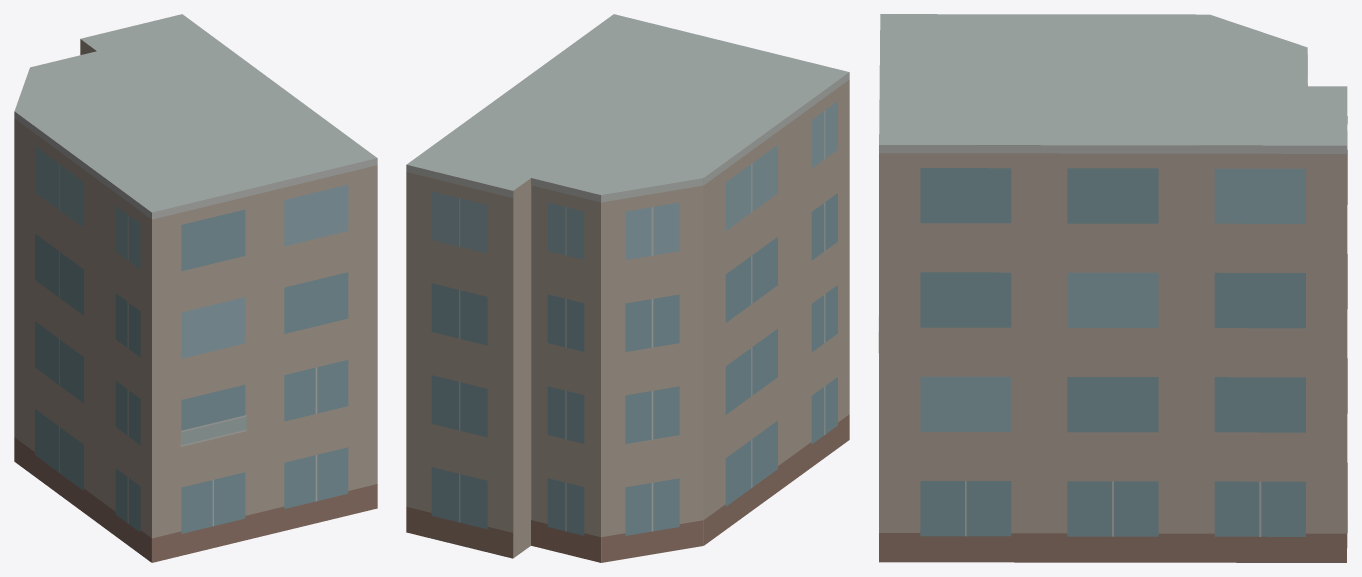
File: residential-cc6c1a69-78f8-48b2-97ba-1a0e796445d8.glb
3 renders of one model, left to right at view 1: azimuth 30°, elevation 25°; view 2: azimuth 150°, elevation 25°; view 3: azimuth 270°, elevation 25°, orthographic. The views are drawn at different scales.
Visible parts, largest first — view 1: residential-cc6c1a69-78f8-48b2-97ba-1a0e796445d8.tmp; view 2: residential-cc6c1a69-78f8-48b2-97ba-1a0e796445d8.tmp; view 3: residential-cc6c1a69-78f8-48b2-97ba-1a0e796445d8.tmp.
Boxes of the visible parts, box(x1,y1,x2,y2) form: residential-cc6c1a69-78f8-48b2-97ba-1a0e796445d8.tmp: box(14, 14, 377, 562); residential-cc6c1a69-78f8-48b2-97ba-1a0e796445d8.tmp: box(406, 14, 849, 562); residential-cc6c1a69-78f8-48b2-97ba-1a0e796445d8.tmp: box(878, 14, 1347, 562).
Size of the model in its own units: 8.26 by 12.2 by 12.44.
